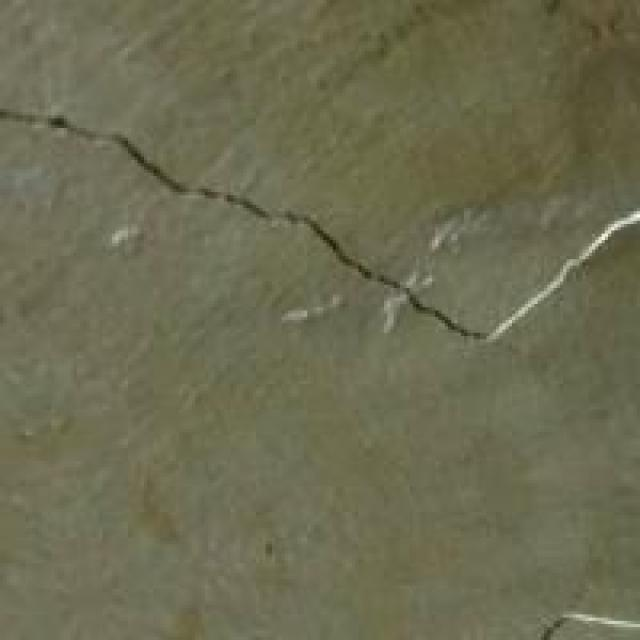Crack: (6, 61, 640, 416)
